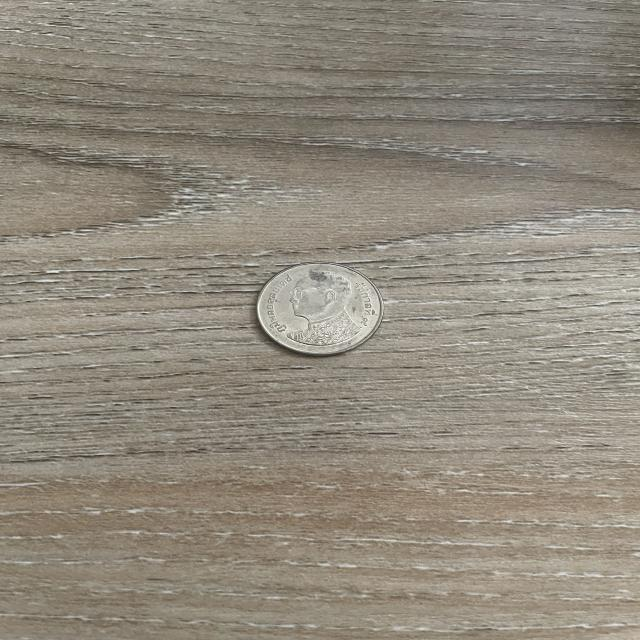1 Bath: (245, 256, 395, 365)
